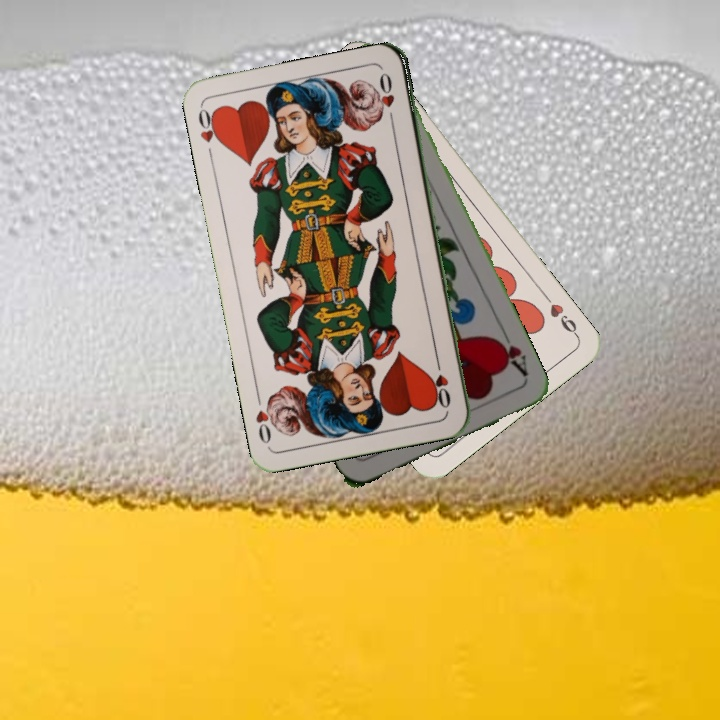H9: (540, 290, 581, 340)
HA: (490, 325, 531, 380)
HO: (194, 104, 225, 162), (431, 353, 453, 411)
